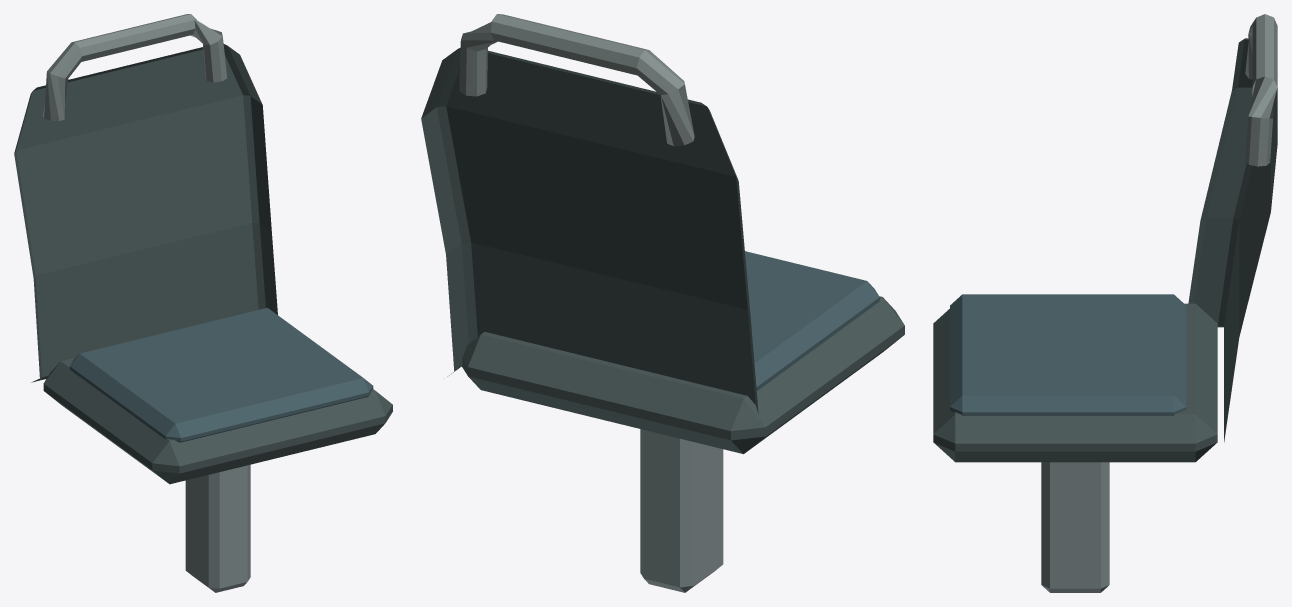
The model's file is seats.glb.
3 views of the same model, side by side, from view 1: azimuth 30°, elevation 25°; view 2: azimuth 150°, elevation 25°; view 3: azimuth 270°, elevation 25° (orthographic). The views are drawn at different scales.
Visible parts, largest first — view 1: SeatShell, SeatPad; view 2: SeatShell, SeatPad; view 3: SeatShell, SeatPad.
Part boxes in pixels (x1,y1,x2,y2): SeatShell: (14,14,392,592); SeatPad: (69,307,373,442); SeatShell: (421,14,904,592); SeatPad: (745,251,879,390); SeatShell: (933,14,1277,592); SeatPad: (950,294,1186,415).
Bounding box in the file's own units: 0.417 × 0.8119 × 0.4686.
